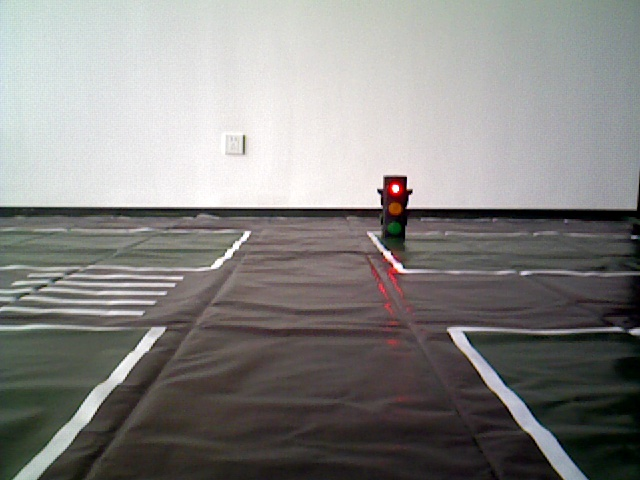red: (381, 176, 405, 242)
